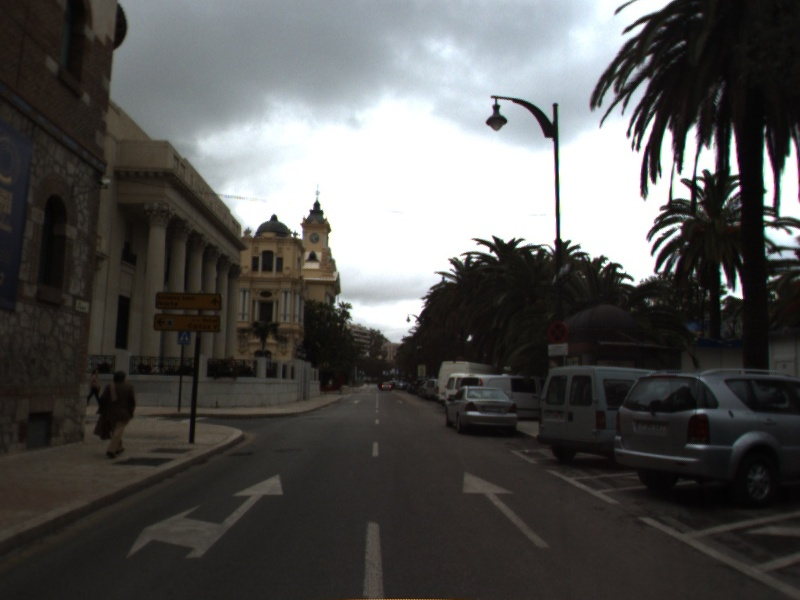STRAIGHT: (460, 469, 552, 550)
STRAIGHT_LEFT: (124, 472, 285, 561)
